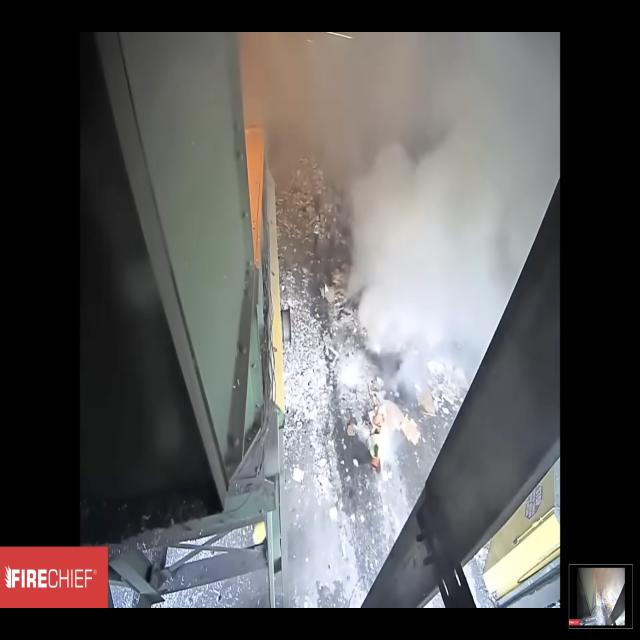Atencao: (214, 43, 566, 455)
